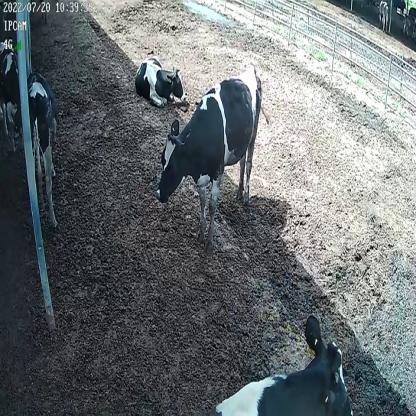cow: (155, 67, 273, 252), (205, 314, 353, 416), (134, 52, 184, 110)
